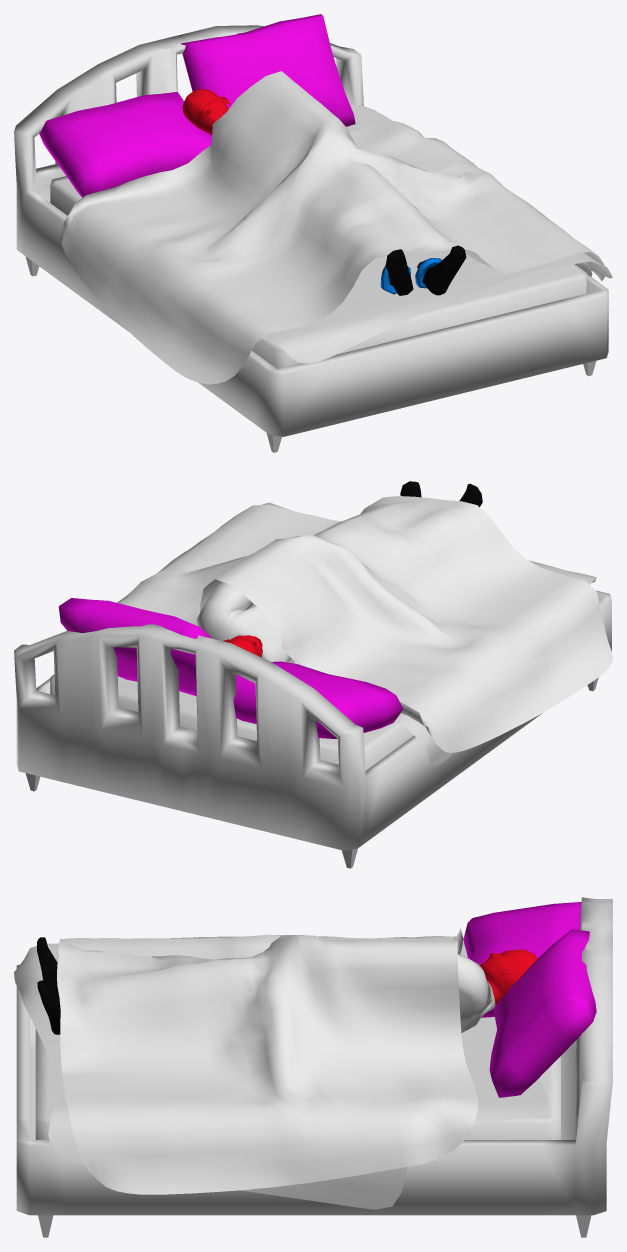
The model's file is BedFilled.fbx.
3 views of the same model, one above another, from view 1: azimuth 30°, elevation 25°; view 2: azimuth 150°, elevation 25°; view 3: azimuth 270°, elevation 25° (orthographic). The views are drawn at different scales.
Visible parts, largest first — view 1: Bed, Plane, 3.003; view 2: Bed, Plane, 3.003; view 3: Plane, Bed, 3.003.
Part boxes in pixels (box(x1,y1,x2,y2)): Bed: box(14, 14, 612, 452); Plane: box(61, 71, 604, 384); 3.003: box(182, 89, 466, 295); Bed: box(14, 502, 611, 868); Plane: box(117, 496, 612, 752); 3.003: box(196, 481, 482, 663); Plane: box(57, 928, 478, 1194); Bed: box(14, 897, 612, 1237); 3.003: box(37, 937, 537, 1034).
Bounding box in the file's own units: 436 × 200 × 489.
